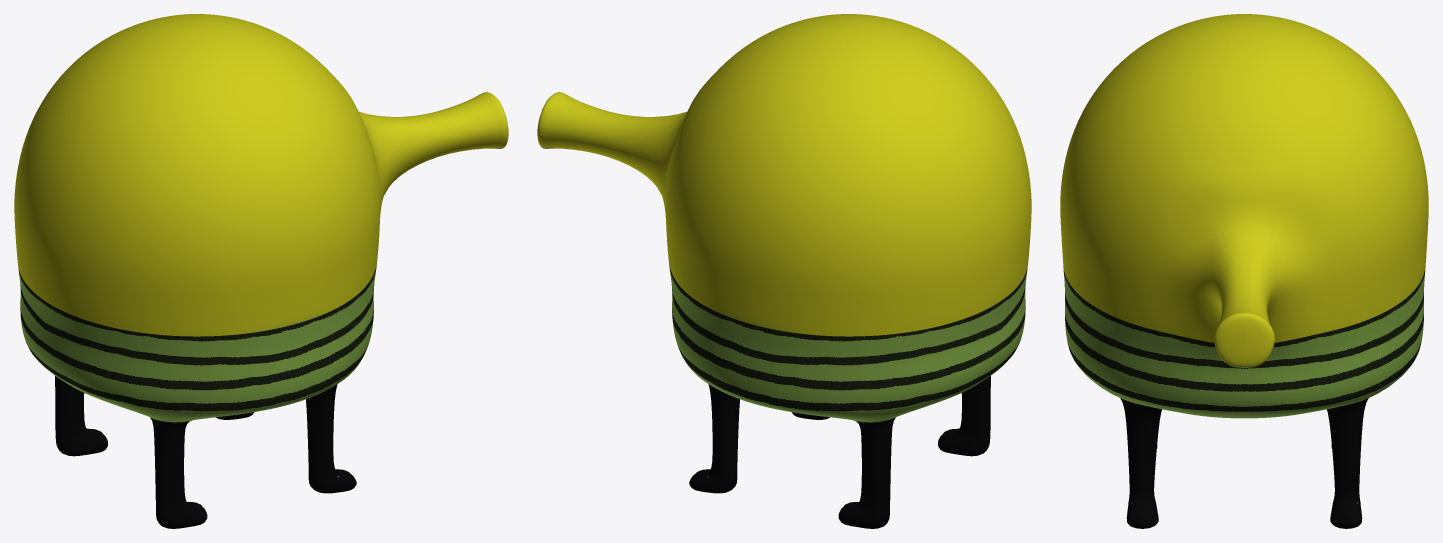
File: doodle.fbx
The picture shows the model from 3 angles, left to right: view 1: azimuth 30°, elevation 25°; view 2: azimuth 150°, elevation 25°; view 3: azimuth 270°, elevation 25°; orthographic projection.
Parts seen in each view (by area): view 1: Cube; view 2: Cube; view 3: Cube.
Boxes of the visible parts, bbox=[...] form: Cube: bbox=[14, 14, 508, 528]; Cube: bbox=[537, 14, 1031, 528]; Cube: bbox=[1060, 14, 1428, 528].
Bounding box in the file's own units: 290 × 268 × 199.
Materials: 1 (1 with a texture image).
